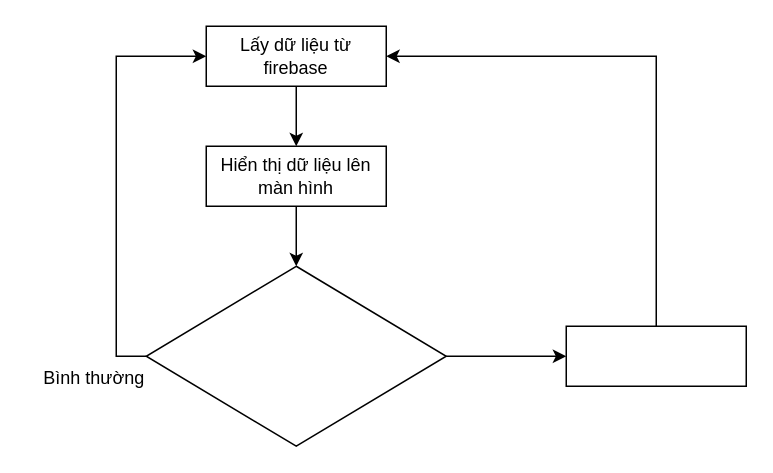
The diagram is 773 pixels wide and 473 high, and some of its shapes have lost their labels. The shapes that lost their labels are listed below. From the top down, each one's centre as x and y in pixels, then its label:
At (x=295, y=355): "Kiểm tra các chỉ số".
At (x=655, y=355): "Gửi thông báo đẩy".
